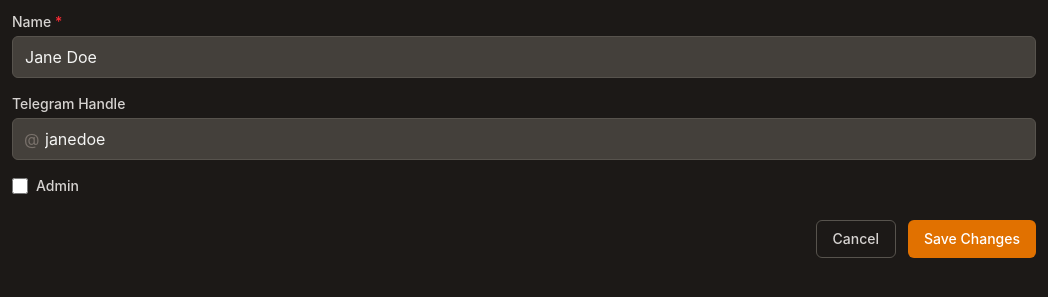
Test: MemberForm › edit mode › validates name is required on edit
Clear the field labelled "Name *" at (524, 57), box [12, 36, 1036, 78]
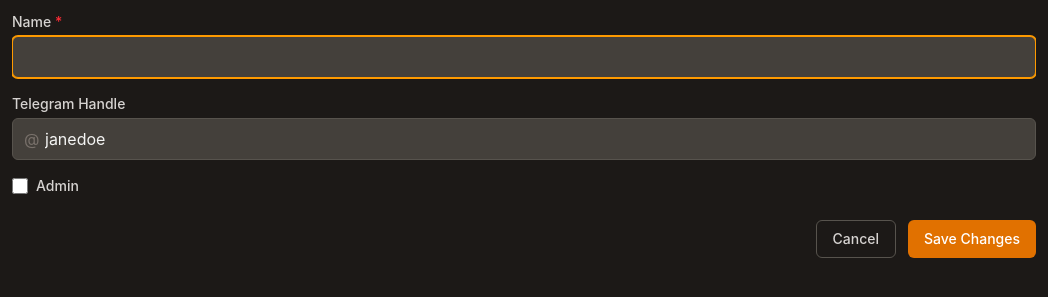
Click the button "Save Changes" at (972, 239), box [908, 220, 1036, 258]
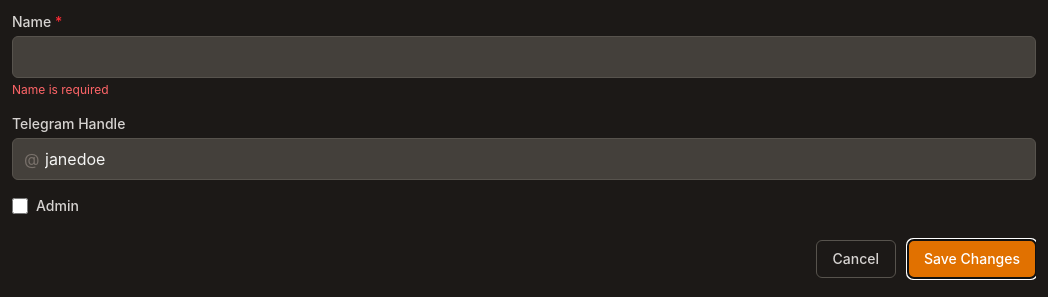
expect the text "Name is required" is shown: met, box [12, 82, 109, 97]
